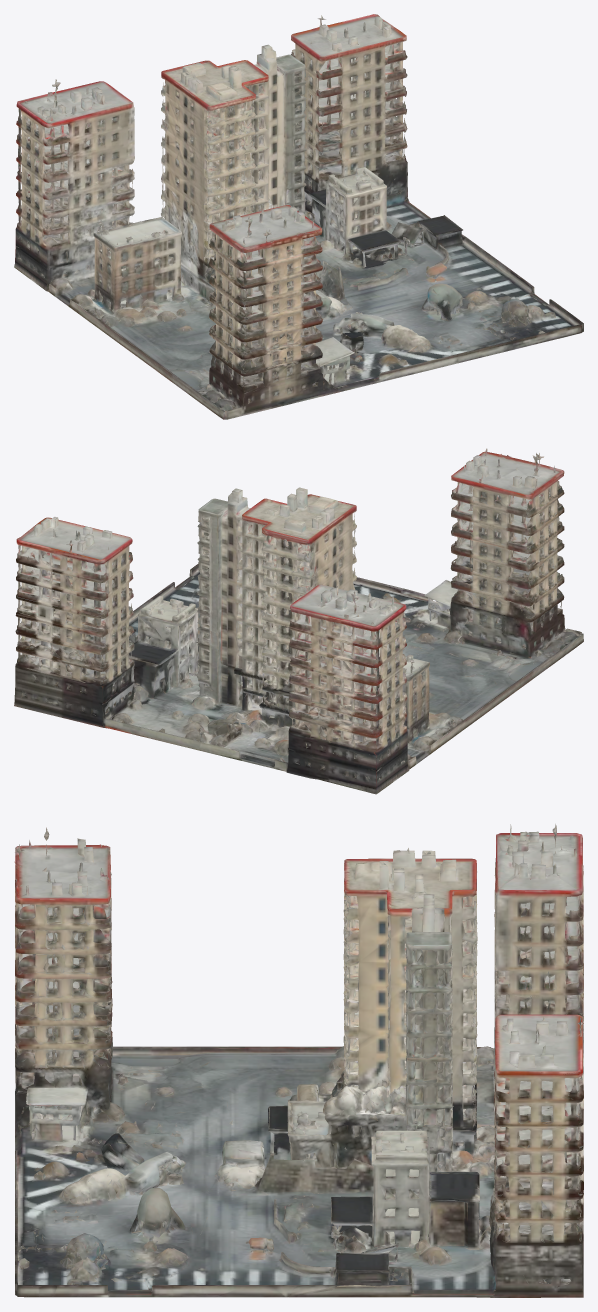
Rendered from map_piece_four.glb.
3 renders of one model, top to bottom at view 1: azimuth 30°, elevation 25°; view 2: azimuth 150°, elevation 25°; view 3: azimuth 270°, elevation 25°, orthographic. The views are drawn at different scales.
Parts seen in each view (by area): view 1: Mesh1.0; view 2: Mesh1.0; view 3: Mesh1.0.
Boxes of the visible parts, x1=… form: Mesh1.0: x1=14, y1=14, x2=583, y2=419; Mesh1.0: x1=14, y1=448, x2=583, y2=794; Mesh1.0: x1=14, y1=824, x2=583, y2=1297.
Size of the model in its own units: 1.91 by 1.08 by 1.91.
Materials: 1 (1 with a texture image).
